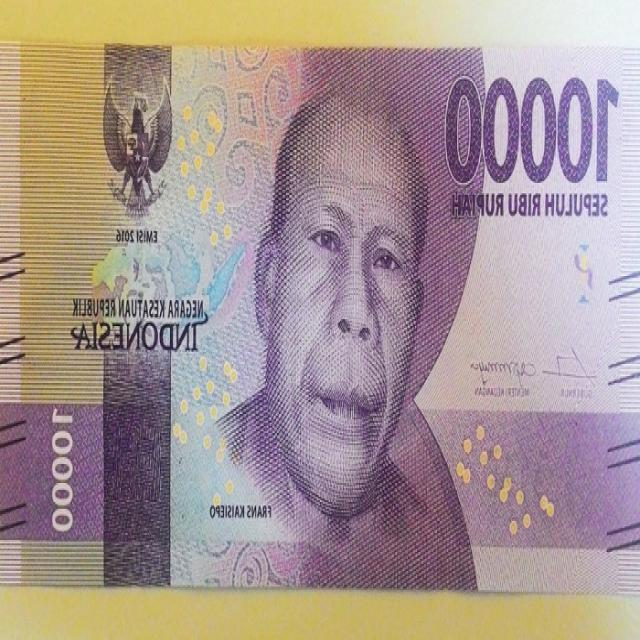sepuluh ribu rupiah: (0, 48, 638, 583), (227, 80, 433, 518), (448, 68, 616, 185)
